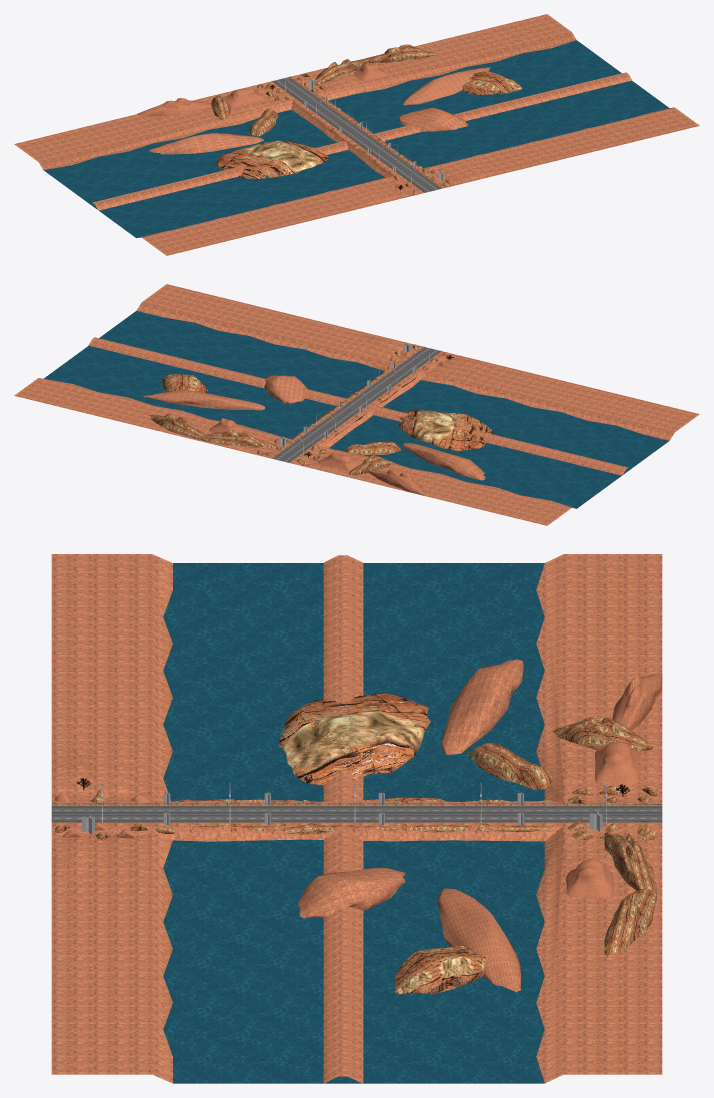
The model's file is desert hil wtih water_02.FBX.
The picture shows the model from 3 angles, top to bottom: view 1: azimuth 30°, elevation 25°; view 2: azimuth 150°, elevation 25°; view 3: azimuth 270°, elevation 25°; orthographic projection. The views are drawn at different scales.
Parts seen in each view (by area): view 1: Object412, Object368, Object413, Object045, Object334, Object333, Object399, Object332, Object339, Object306, Object305, Cylinder015 (+2 smaller); view 2: Object412, Object368, Object413, Object045, Object333, Object334, Object399, Object305, Object306, Object339, Object332, Cylinder012 (+2 smaller); view 3: Object412, Object368, Object045, Object413, Object333, Object334, Object399, Object332, Object306, Cylinder012, Object336, Object305 (+4 smaller).
Boxes of the visible parts, left/top/right/bottom form: Object412: left=290, top=14, right=699, bottom=188; Object368: left=14, top=81, right=423, bottom=255; Object413: left=216, top=140, right=327, bottom=178; Object045: left=272, top=77, right=441, bottom=192; Object334: left=149, top=133, right=263, bottom=154; Object333: left=403, top=67, right=490, bottom=105; Object399: left=399, top=107, right=468, bottom=131; Object332: left=462, top=71, right=522, bottom=94; Object339: left=137, top=98, right=211, bottom=116; Object306: left=364, top=44, right=438, bottom=63; Object305: left=314, top=59, right=367, bottom=84; Cylinder015: left=223, top=88, right=265, bottom=107; Object412: left=14, top=284, right=423, bottom=458; Object368: left=290, top=351, right=699, bottom=525; Object413: left=398, top=410, right=493, bottom=451; Object045: left=272, top=347, right=441, bottom=462; Object333: left=143, top=389, right=265, bottom=410; Object334: left=402, top=443, right=485, bottom=480; Object399: left=264, top=375, right=307, bottom=404; Object305: left=201, top=430, right=276, bottom=448; Object306: left=149, top=414, right=204, bottom=439; Object339: left=369, top=469, right=425, bottom=495; Object332: left=161, top=374, right=207, bottom=392; Cylinder012: left=345, top=442, right=400, bottom=455; Object412: left=51, top=823, right=662, bottom=1083; Object368: left=51, top=554, right=662, bottom=805; Object045: left=51, top=805, right=662, bottom=822; Object413: left=278, top=693, right=430, bottom=785; Object333: left=437, top=888, right=520, bottom=992; Object334: left=441, top=659, right=523, bottom=754; Object399: left=298, top=867, right=405, bottom=918; Object332: left=394, top=945, right=487, bottom=994; Object306: left=604, top=888, right=656, bottom=955; Cylinder012: left=467, top=743, right=552, bottom=789; Object336: left=553, top=717, right=652, bottom=751; Object305: left=604, top=832, right=656, bottom=891.
Size of the model in its own units: 11636 by 400 by 5763.
